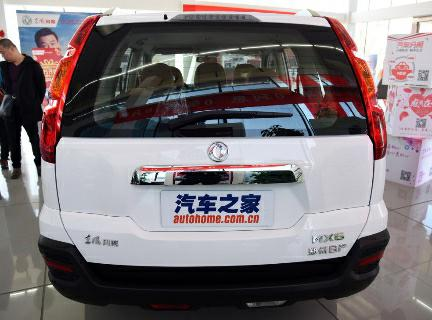东风风度-MX6: (34, 2, 391, 302)
